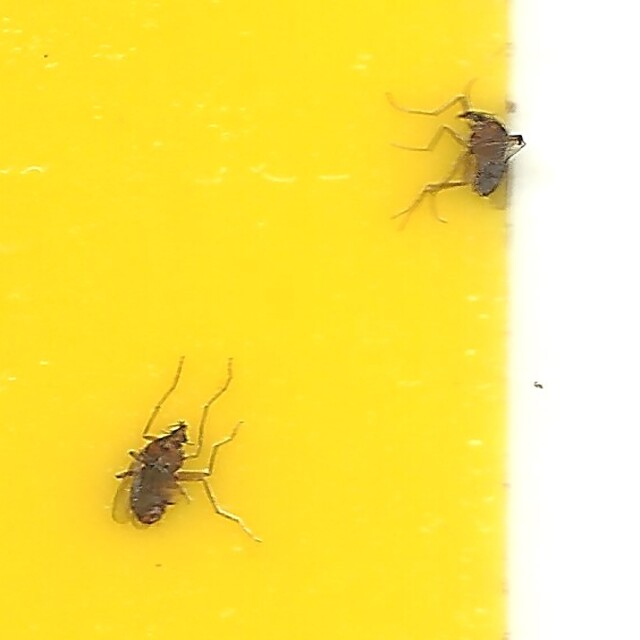Nematocera: (113, 357, 261, 545), (384, 95, 527, 227)
